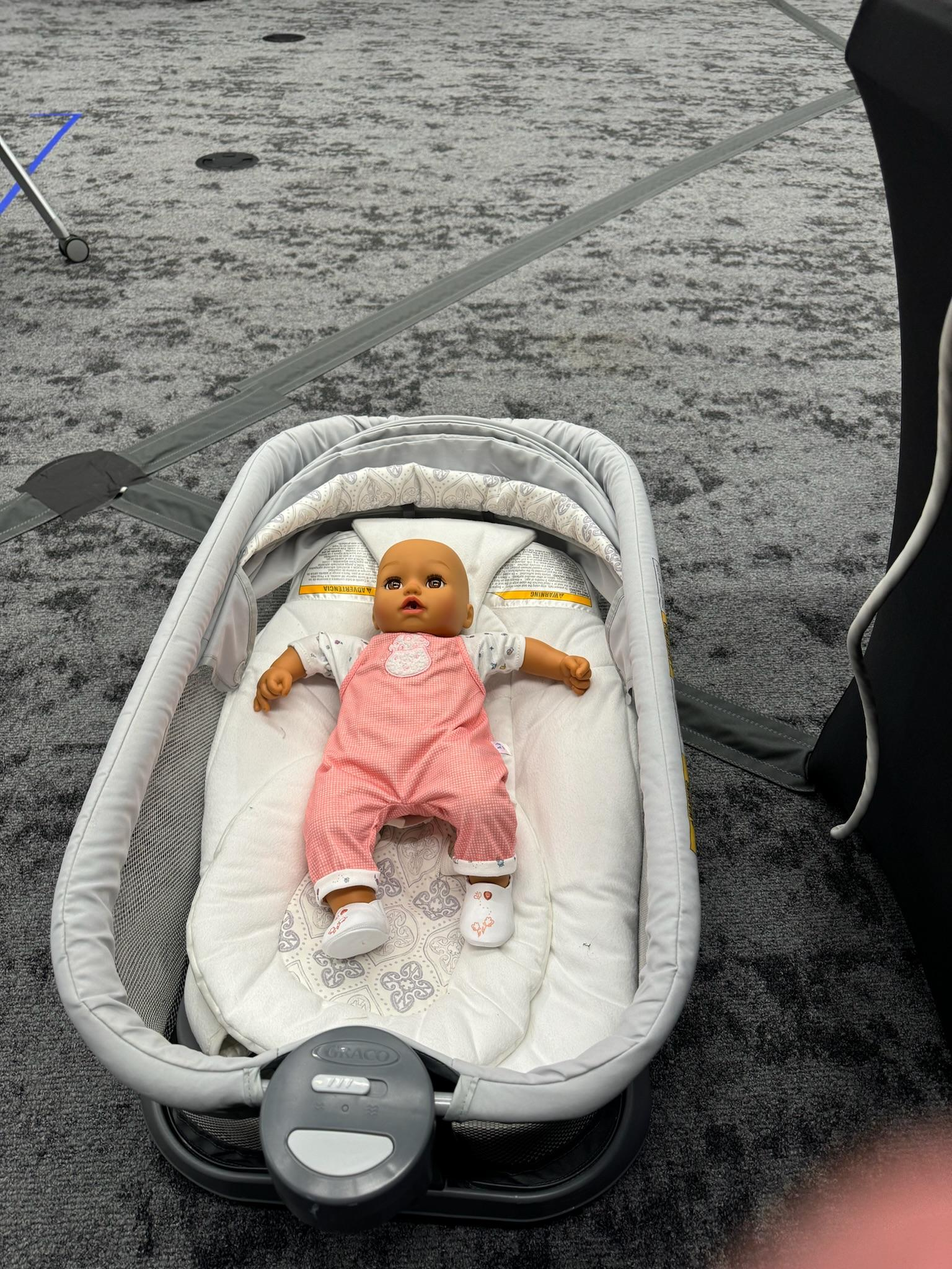baby: (260, 537, 586, 956)
